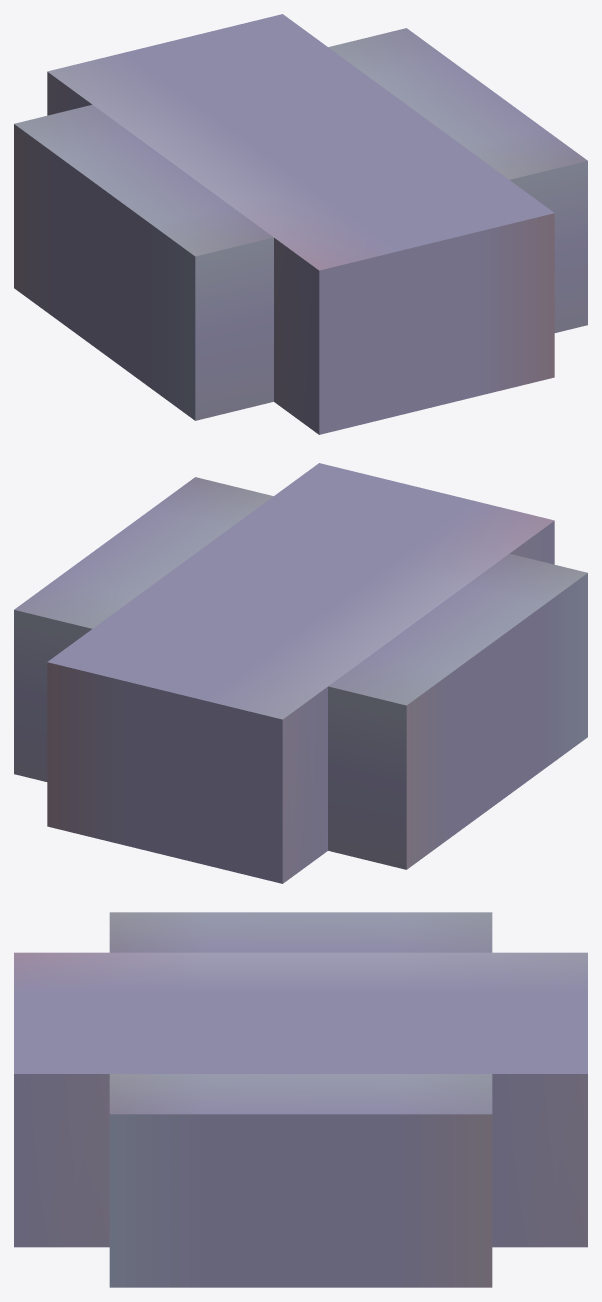
The model's file is PillowSmallPurple_00.obj.
3 renders of one model, top to bottom at view 1: azimuth 30°, elevation 25°; view 2: azimuth 150°, elevation 25°; view 3: azimuth 270°, elevation 25°, orthographic. The views are drawn at different scales.
Parts seen in each view (by area): view 1: PillowSmallPurple_00; view 2: PillowSmallPurple_00; view 3: PillowSmallPurple_00.
Boxes of the visible parts, left/top/right/bottom form: PillowSmallPurple_00: left=14, top=14, right=587, bottom=434; PillowSmallPurple_00: left=14, top=463, right=587, bottom=883; PillowSmallPurple_00: left=14, top=912, right=587, bottom=1287.
Size of the model in its own units: 0.25 by 0.1 by 0.3.
